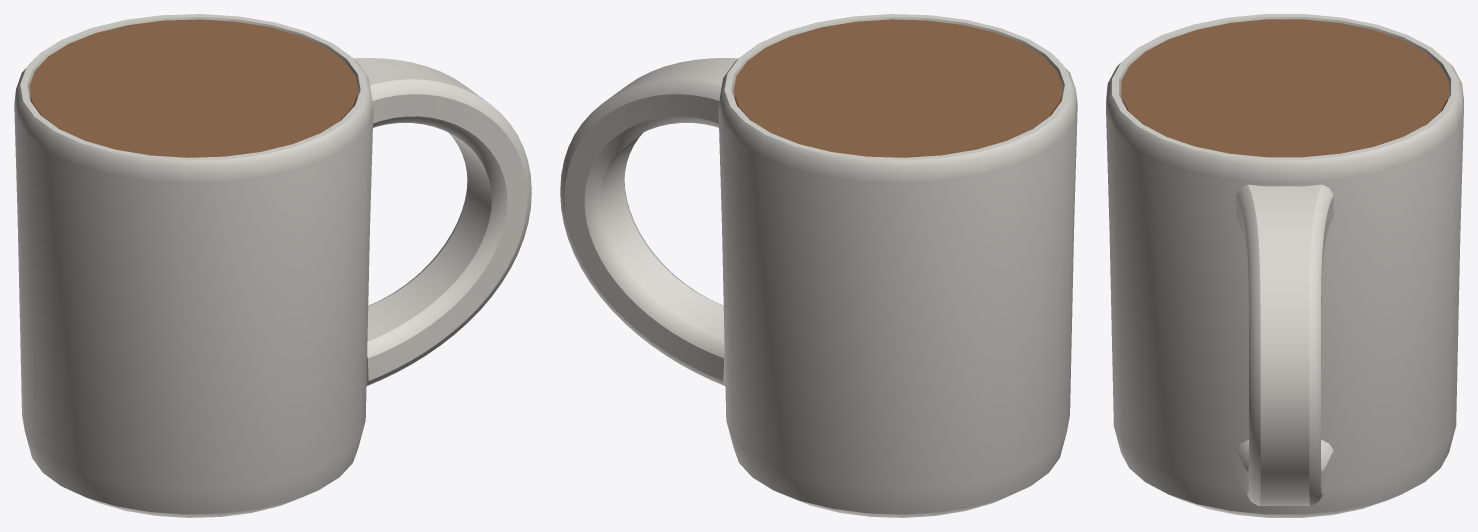
Rendered from container_mug_lod1.glb.
3 renders of one model, left to right at view 1: azimuth 30°, elevation 25°; view 2: azimuth 150°, elevation 25°; view 3: azimuth 270°, elevation 25°, orthographic.
Parts seen in each view (by area): view 1: Body, Liquid, Handle; view 2: Body, Liquid, Handle; view 3: Body, Liquid, Handle.
Part boxes in pixels (x1,y1,x2,y2): Body: [14, 14, 373, 517]; Liquid: [29, 19, 358, 157]; Handle: [354, 58, 531, 385]; Body: [718, 14, 1077, 517]; Liquid: [733, 19, 1062, 157]; Handle: [560, 58, 737, 385]; Body: [1106, 14, 1463, 517]; Liquid: [1121, 19, 1448, 157]; Handle: [1236, 184, 1333, 505].
Bounding box in the file's own units: 0.1296 × 0.0952 × 0.0835.
